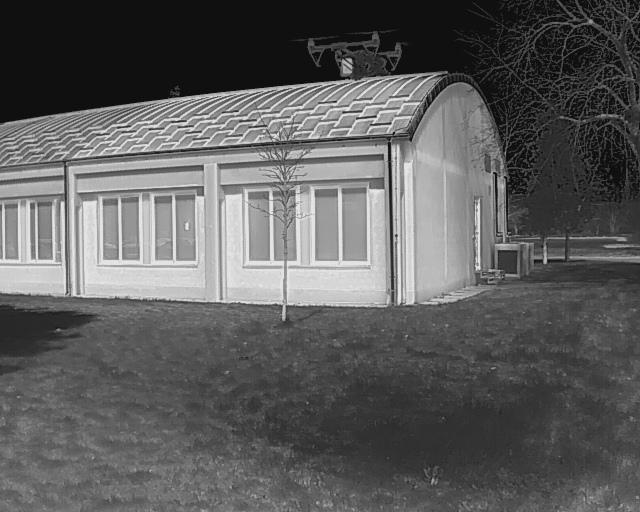drone: (282, 16, 423, 94)
